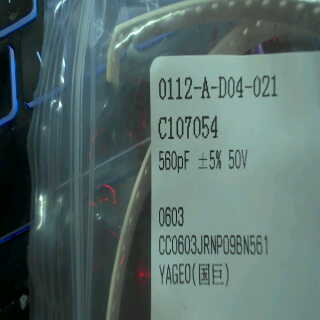560pF: (156, 146, 194, 174)
